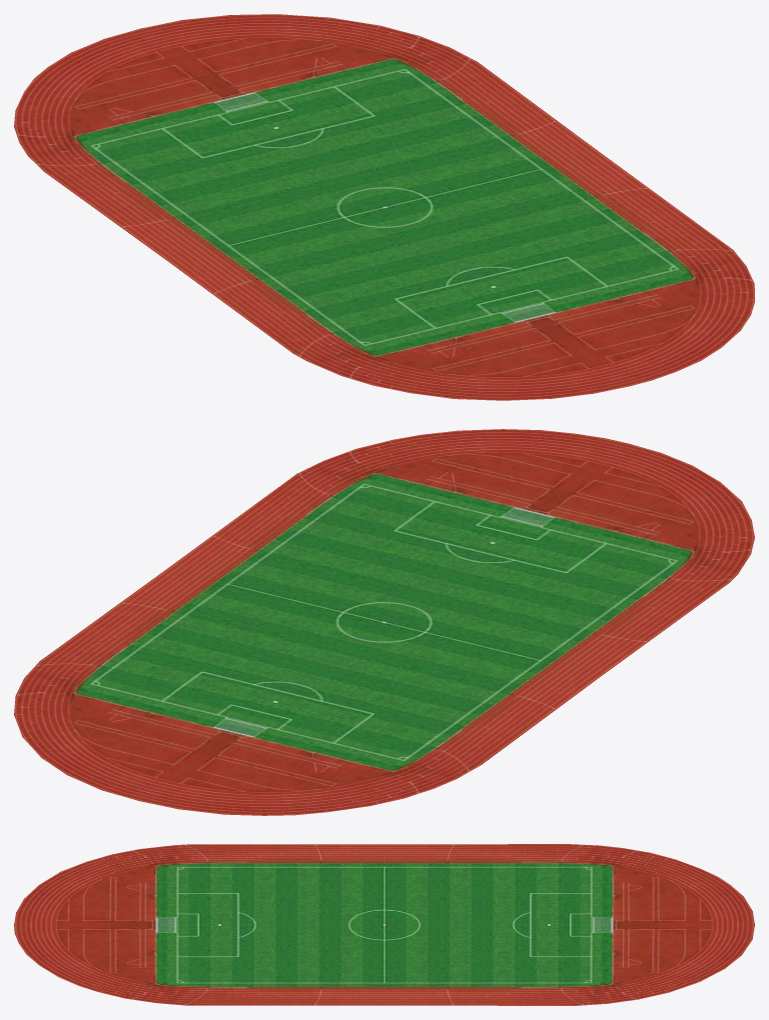
3 renders of one model, top to bottom at view 1: azimuth 30°, elevation 25°; view 2: azimuth 150°, elevation 25°; view 3: azimuth 270°, elevation 25°, orthographic. The views are drawn at different scales.
Parts seen in each view (by area): view 1: HN1320_SanTapSo1; view 2: HN1320_SanTapSo1; view 3: HN1320_SanTapSo1.
Boxes of the visible parts, box(x1,y1,x2,y2) form: HN1320_SanTapSo1: box(14, 14, 754, 400); HN1320_SanTapSo1: box(14, 429, 754, 815); HN1320_SanTapSo1: box(14, 844, 754, 1005).
Size of the model in its own units: 90.55 by 3.89e-14 by 175.
Materials: 1 (1 with a texture image).
